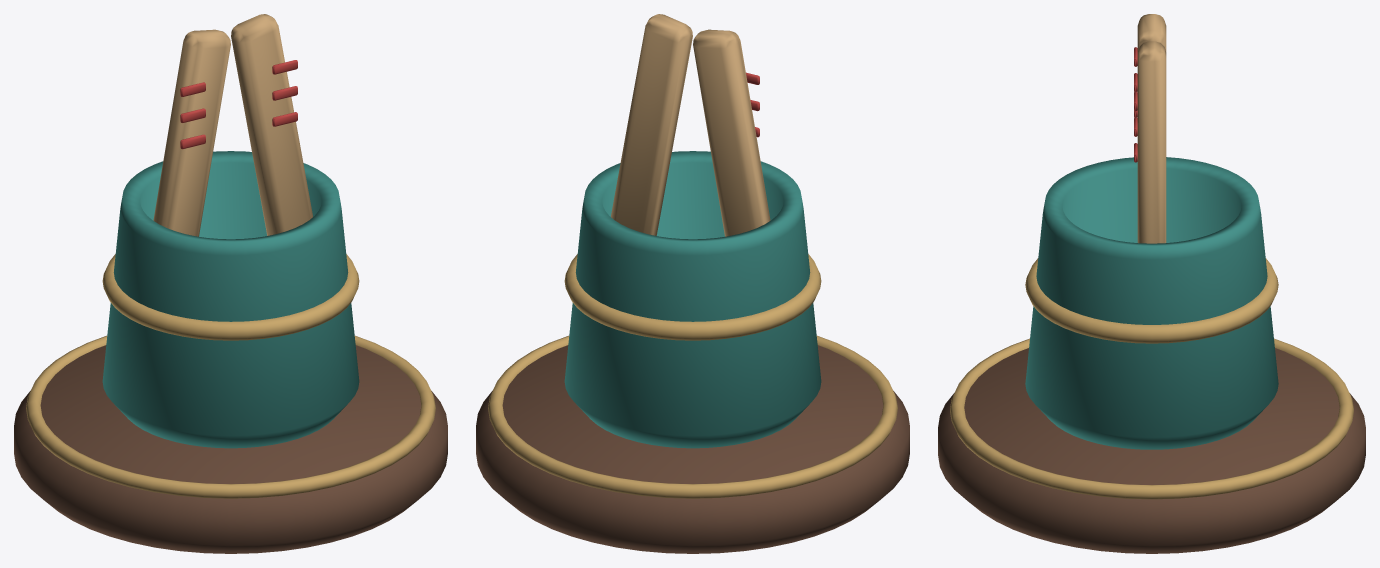
Rendered from ember.glb.
The picture shows the model from 3 angles, left to right: view 1: azimuth 30°, elevation 25°; view 2: azimuth 150°, elevation 25°; view 3: azimuth 270°, elevation 25°; orthographic projection.
Parts seen in each view (by area): view 1: ember_Glazed teal porcelain, ember_Walnut carved edge, ember_Golden bamboo grain, ember_Brushed champagne brass, ember_Vermilion braided silk; view 2: ember_Glazed teal porcelain, ember_Walnut carved edge, ember_Golden bamboo grain, ember_Brushed champagne brass; view 3: ember_Glazed teal porcelain, ember_Walnut carved edge, ember_Brushed champagne brass, ember_Golden bamboo grain.
Boxes of the visible parts, box(x1,y1,x2,y2) form: ember_Glazed teal porcelain: box(102, 151, 359, 448); ember_Walnut carved edge: box(14, 345, 447, 553); ember_Golden bamboo grain: box(153, 14, 312, 236); ember_Brushed champagne brass: box(26, 254, 435, 498); ember_Vermilion braided silk: box(180, 60, 297, 149); ember_Glazed teal porcelain: box(564, 151, 821, 448); ember_Walnut carved edge: box(476, 345, 909, 553); ember_Golden bamboo grain: box(611, 14, 770, 236); ember_Brushed champagne brass: box(488, 254, 897, 498); ember_Glazed teal porcelain: box(1025, 157, 1278, 449); ember_Walnut carved edge: box(938, 348, 1365, 553); ember_Brushed champagne brass: box(950, 258, 1353, 499); ember_Golden bamboo grain: box(1137, 14, 1166, 243).
Bounding box in the file's own units: 0.98 × 1.11 × 0.98.
